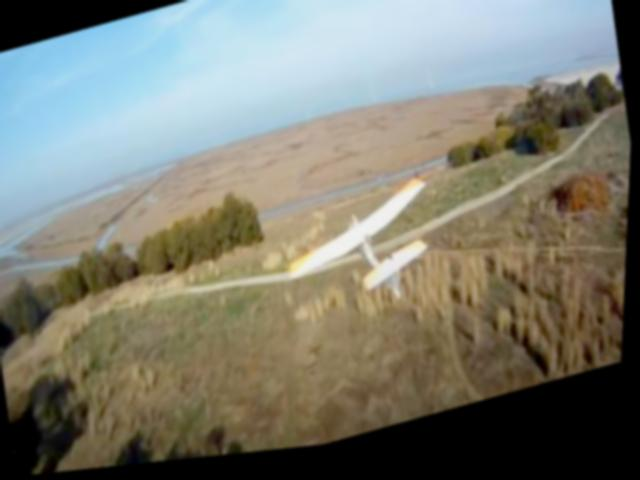uav: (274, 176, 452, 345)
